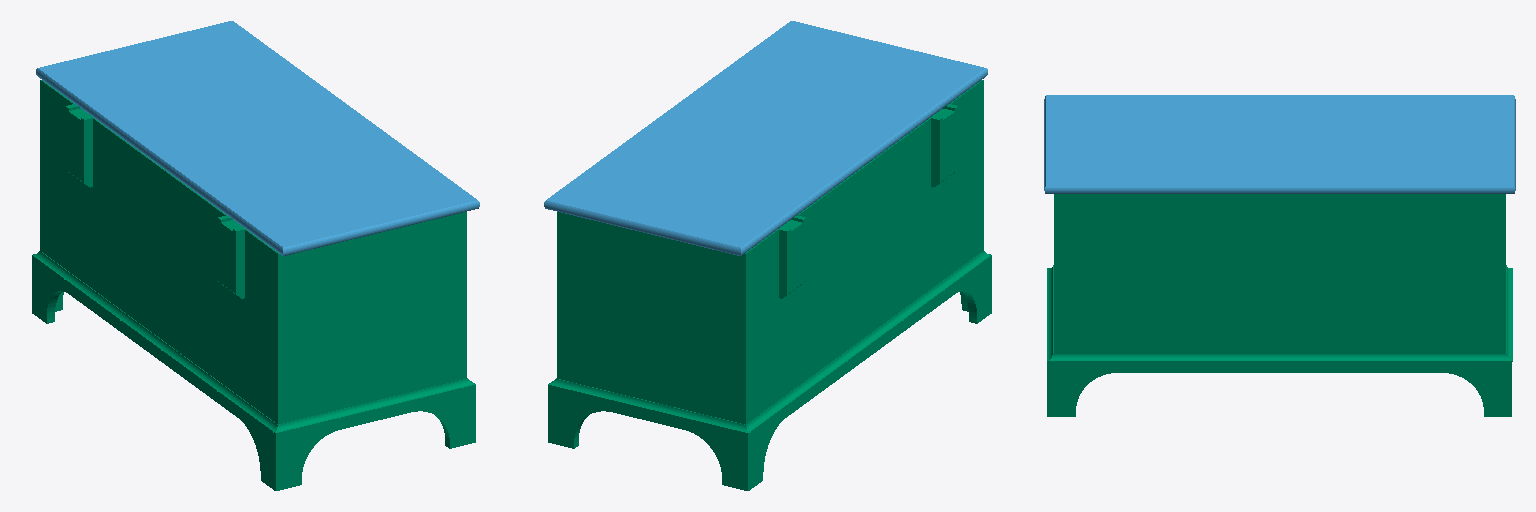
URDF robot description (partnet_985eb4a8f9914873738e43095496b061):
<?xml version="1.0" ?>
<robot name="partnet_985eb4a8f9914873738e43095496b061">
	<link name="base"/>
	<link name="link_0">
		<visual name="countertop-17">
			<origin xyz="0.7213680148124694 -0.3213303004531701 0.3529772990072755"/>
			<geometry>
				<mesh filename="textured_objs/original-24.obj"/>
			</geometry>
		</visual>
		<collision>
			<origin xyz="0.7213680148124694 -0.3213303004531701 0.3529772990072755"/>
			<geometry>
				<mesh filename="textured_objs/original-24.obj"/>
			</geometry>
		</collision>
	</link>
	<joint name="joint_0" type="revolute">
		<origin xyz="-0.7213680148124694 0.3213303004531701 -0.3529772990072755"/>
		<axis xyz="-1 0 0"/>
		<child link="link_0"/>
		<parent link="link_1"/>
		<limit lower="0.0" upper="3.141592653589793"/>
	</joint>
	<link name="link_1">
		<visual name="other_leaf-23">
			<origin xyz="0 0 0"/>
			<geometry>
				<mesh filename="textured_objs/original-19.obj"/>
			</geometry>
		</visual>
		<visual name="other_leaf-22">
			<origin xyz="0 0 0"/>
			<geometry>
				<mesh filename="textured_objs/original-18.obj"/>
			</geometry>
		</visual>
		<visual name="shelf-41">
			<origin xyz="0 0 0"/>
			<geometry>
				<mesh filename="textured_objs/original-20.obj"/>
			</geometry>
		</visual>
		<visual name="shelf-41">
			<origin xyz="0 0 0"/>
			<geometry>
				<mesh filename="textured_objs/original-23.obj"/>
			</geometry>
		</visual>
		<visual name="shelf-41">
			<origin xyz="0 0 0"/>
			<geometry>
				<mesh filename="textured_objs/original-22.obj"/>
			</geometry>
		</visual>
		<visual name="bottom_panel-34">
			<origin xyz="0 0 0"/>
			<geometry>
				<mesh filename="textured_objs/original-14.obj"/>
			</geometry>
		</visual>
		<visual name="bottom_panel-34">
			<origin xyz="0 0 0"/>
			<geometry>
				<mesh filename="textured_objs/original-3.obj"/>
			</geometry>
		</visual>
		<visual name="bottom_panel-34">
			<origin xyz="0 0 0"/>
			<geometry>
				<mesh filename="textured_objs/original-13.obj"/>
			</geometry>
		</visual>
		<visual name="bottom_panel-34">
			<origin xyz="0 0 0"/>
			<geometry>
				<mesh filename="textured_objs/original-11.obj"/>
			</geometry>
		</visual>
		<visual name="bottom_panel-34">
			<origin xyz="0 0 0"/>
			<geometry>
				<mesh filename="textured_objs/original-12.obj"/>
			</geometry>
		</visual>
		<visual name="bottom_panel-34">
			<origin xyz="0 0 0"/>
			<geometry>
				<mesh filename="textured_objs/original-15.obj"/>
			</geometry>
		</visual>
		<visual name="bottom_panel-34">
			<origin xyz="0 0 0"/>
			<geometry>
				<mesh filename="textured_objs/original-17.obj"/>
			</geometry>
		</visual>
		<visual name="bottom_panel-34">
			<origin xyz="0 0 0"/>
			<geometry>
				<mesh filename="textured_objs/original-16.obj"/>
			</geometry>
		</visual>
		<visual name="bottom_panel-34">
			<origin xyz="0 0 0"/>
			<geometry>
				<mesh filename="textured_objs/original-4.obj"/>
			</geometry>
		</visual>
		<visual name="vertical_side_panel-35">
			<origin xyz="0 0 0"/>
			<geometry>
				<mesh filename="textured_objs/original-9.obj"/>
			</geometry>
		</visual>
		<visual name="vertical_side_panel-36">
			<origin xyz="0 0 0"/>
			<geometry>
				<mesh filename="textured_objs/original-10.obj"/>
			</geometry>
		</visual>
		<visual name="vertical_side_panel-37">
			<origin xyz="0 0 0"/>
			<geometry>
				<mesh filename="textured_objs/original-8.obj"/>
			</geometry>
		</visual>
		<visual name="vertical_side_panel-38">
			<origin xyz="0 0 0"/>
			<geometry>
				<mesh filename="textured_objs/original-7.obj"/>
			</geometry>
		</visual>
		<visual name="other_leaf-40">
			<origin xyz="0 0 0"/>
			<geometry>
				<mesh filename="textured_objs/original-25.obj"/>
			</geometry>
		</visual>
		<visual name="vertical_divider_panel-42">
			<origin xyz="0 0 0"/>
			<geometry>
				<mesh filename="textured_objs/original-21.obj"/>
			</geometry>
		</visual>
		<visual name="base_side_panel-25">
			<origin xyz="0 0 0"/>
			<geometry>
				<mesh filename="textured_objs/original-5.obj"/>
			</geometry>
		</visual>
		<visual name="base_side_panel-26">
			<origin xyz="0 0 0"/>
			<geometry>
				<mesh filename="textured_objs/original-1.obj"/>
			</geometry>
		</visual>
		<visual name="base_side_panel-27">
			<origin xyz="0 0 0"/>
			<geometry>
				<mesh filename="textured_objs/original-6.obj"/>
			</geometry>
		</visual>
		<visual name="base_side_panel-28">
			<origin xyz="0 0 0"/>
			<geometry>
				<mesh filename="textured_objs/original-2.obj"/>
			</geometry>
		</visual>
		<collision>
			<origin xyz="0 0 0"/>
			<geometry>
				<mesh filename="textured_objs/original-19.obj"/>
			</geometry>
		</collision>
		<collision>
			<origin xyz="0 0 0"/>
			<geometry>
				<mesh filename="textured_objs/original-18.obj"/>
			</geometry>
		</collision>
		<collision>
			<origin xyz="0 0 0"/>
			<geometry>
				<mesh filename="textured_objs/original-20.obj"/>
			</geometry>
		</collision>
		<collision>
			<origin xyz="0 0 0"/>
			<geometry>
				<mesh filename="textured_objs/original-23.obj"/>
			</geometry>
		</collision>
		<collision>
			<origin xyz="0 0 0"/>
			<geometry>
				<mesh filename="textured_objs/original-22.obj"/>
			</geometry>
		</collision>
		<collision>
			<origin xyz="0 0 0"/>
			<geometry>
				<mesh filename="textured_objs/original-14.obj"/>
			</geometry>
		</collision>
		<collision>
			<origin xyz="0 0 0"/>
			<geometry>
				<mesh filename="textured_objs/original-3.obj"/>
			</geometry>
		</collision>
		<collision>
			<origin xyz="0 0 0"/>
			<geometry>
				<mesh filename="textured_objs/original-13.obj"/>
			</geometry>
		</collision>
		<collision>
			<origin xyz="0 0 0"/>
			<geometry>
				<mesh filename="textured_objs/original-11.obj"/>
			</geometry>
		</collision>
		<collision>
			<origin xyz="0 0 0"/>
			<geometry>
				<mesh filename="textured_objs/original-12.obj"/>
			</geometry>
		</collision>
		<collision>
			<origin xyz="0 0 0"/>
			<geometry>
				<mesh filename="textured_objs/original-15.obj"/>
			</geometry>
		</collision>
		<collision>
			<origin xyz="0 0 0"/>
			<geometry>
				<mesh filename="textured_objs/original-17.obj"/>
			</geometry>
		</collision>
		<collision>
			<origin xyz="0 0 0"/>
			<geometry>
				<mesh filename="textured_objs/original-16.obj"/>
			</geometry>
		</collision>
		<collision>
			<origin xyz="0 0 0"/>
			<geometry>
				<mesh filename="textured_objs/original-4.obj"/>
			</geometry>
		</collision>
		<collision>
			<origin xyz="0 0 0"/>
			<geometry>
				<mesh filename="textured_objs/original-9.obj"/>
			</geometry>
		</collision>
		<collision>
			<origin xyz="0 0 0"/>
			<geometry>
				<mesh filename="textured_objs/original-10.obj"/>
			</geometry>
		</collision>
		<collision>
			<origin xyz="0 0 0"/>
			<geometry>
				<mesh filename="textured_objs/original-8.obj"/>
			</geometry>
		</collision>
		<collision>
			<origin xyz="0 0 0"/>
			<geometry>
				<mesh filename="textured_objs/original-7.obj"/>
			</geometry>
		</collision>
		<collision>
			<origin xyz="0 0 0"/>
			<geometry>
				<mesh filename="textured_objs/original-25.obj"/>
			</geometry>
		</collision>
		<collision>
			<origin xyz="0 0 0"/>
			<geometry>
				<mesh filename="textured_objs/original-21.obj"/>
			</geometry>
		</collision>
		<collision>
			<origin xyz="0 0 0"/>
			<geometry>
				<mesh filename="textured_objs/original-5.obj"/>
			</geometry>
		</collision>
		<collision>
			<origin xyz="0 0 0"/>
			<geometry>
				<mesh filename="textured_objs/original-1.obj"/>
			</geometry>
		</collision>
		<collision>
			<origin xyz="0 0 0"/>
			<geometry>
				<mesh filename="textured_objs/original-6.obj"/>
			</geometry>
		</collision>
		<collision>
			<origin xyz="0 0 0"/>
			<geometry>
				<mesh filename="textured_objs/original-2.obj"/>
			</geometry>
		</collision>
	</link>
	<joint name="joint_1" type="fixed">
		<origin rpy="1.570796326794897 0 -1.570796326794897" xyz="0 0 0"/>
		<child link="link_1"/>
		<parent link="base"/>
	</joint>
</robot>

--- Render facts (derived) ---
3 views of the same robot in one strip: view 1: azimuth 30°, elevation 25°; view 2: azimuth 150°, elevation 25°; view 3: azimuth 270°, elevation 25° (orthographic).
Model partnet_985eb4a8f9914873738e43095496b061 with 3 links and 2 joints (1 revolute, 1 fixed), rooted at base, posed every joint at zero.
Links seen in each view (by area): view 1: link_1, link_0; view 2: link_1, link_0; view 3: link_1, link_0.
Link boxes in pixels (bbox=[...]): link_1: bbox=[32, 80, 475, 490]; link_0: bbox=[36, 21, 479, 255]; link_1: bbox=[548, 80, 991, 490]; link_0: bbox=[544, 21, 987, 255]; link_1: bbox=[1047, 194, 1512, 416]; link_0: bbox=[1044, 95, 1515, 193].
Bounding box of the posed robot: 0.7682 × 1.6 × 0.8656 m (x, y, z).
25 mesh visuals loaded from 25 distinct referenced files (25 OBJ).
